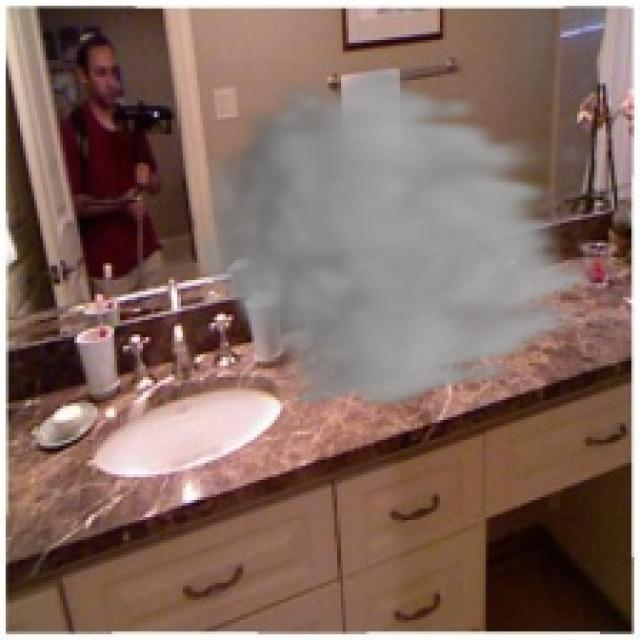Smoke: (188, 59, 612, 412)
